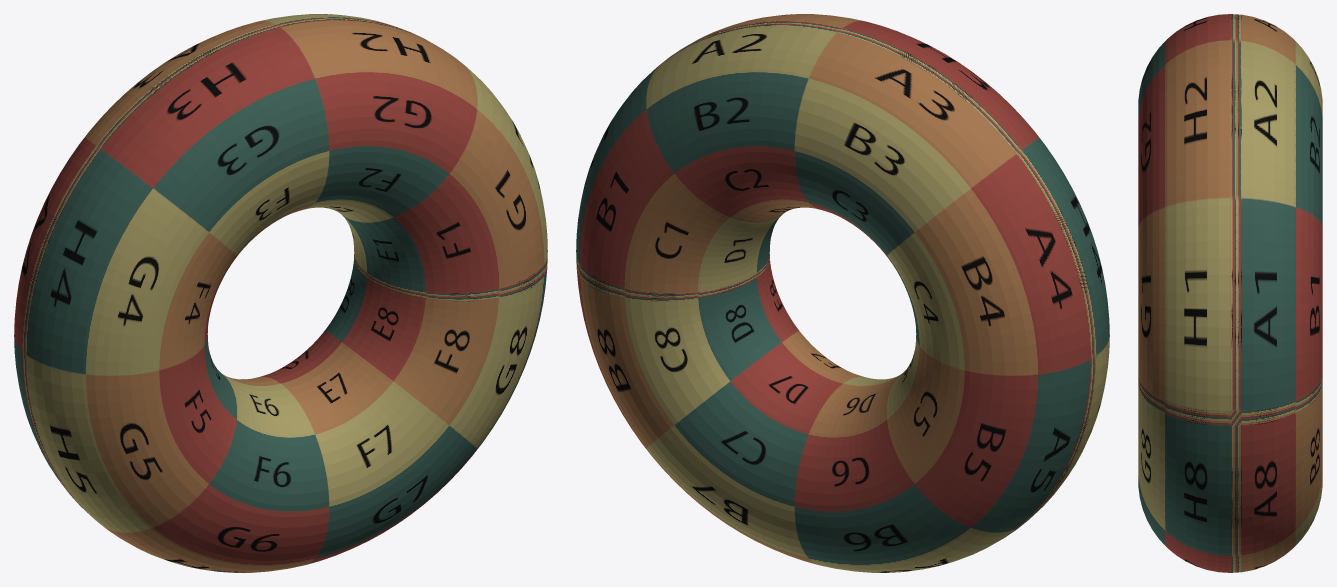
File: texture_torus_R3_r7.glb
The picture shows the model from 3 angles, left to right: view 1: azimuth 30°, elevation 25°; view 2: azimuth 150°, elevation 25°; view 3: azimuth 270°, elevation 25°; orthographic projection. The views are drawn at different scales.
Visible parts, largest first — view 1: world; view 2: world; view 3: world.
Part boxes in pixels (x1,y1,x2,y2): world: (14, 14, 547, 572); world: (576, 14, 1109, 572); world: (1138, 14, 1322, 572).
Size of the model in its own units: 24.89 by 24.89 by 8.21.
1 material, 1 textured.
